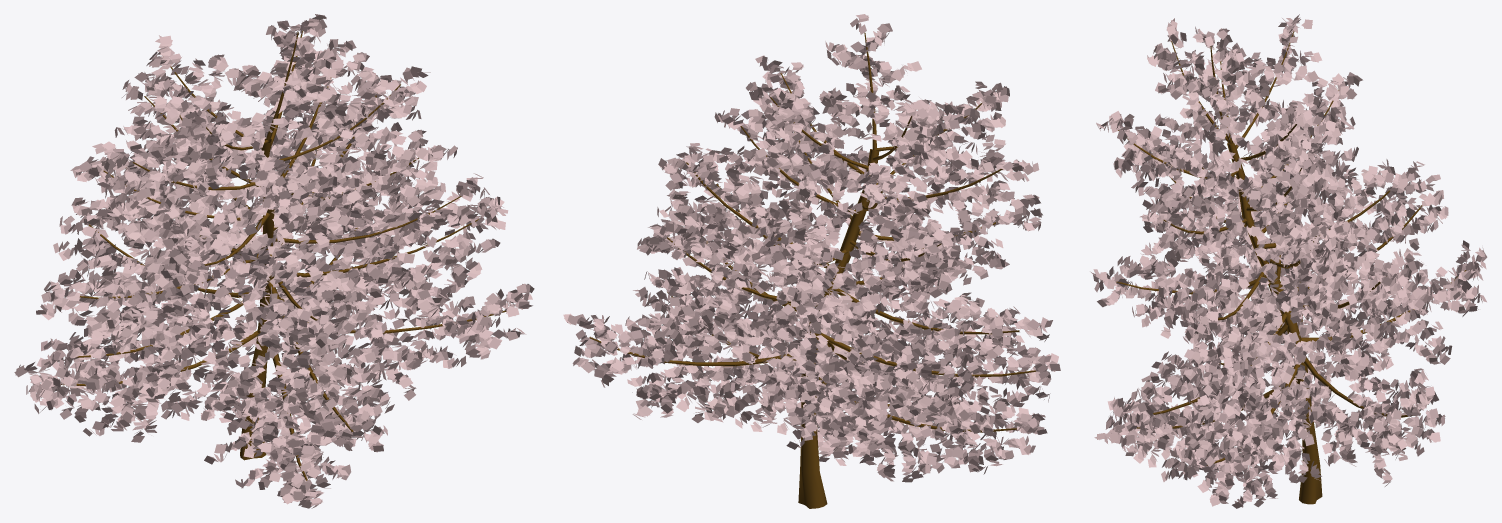
The model's file is Busch 6.FBX.
3 views of the same model, side by side, from view 1: azimuth 30°, elevation 25°; view 2: azimuth 150°, elevation 25°; view 3: azimuth 270°, elevation 25° (orthographic). The views are drawn at different scales.
Parts seen in each view (by area): view 1: Foliage006; view 2: Foliage006; view 3: Foliage006.
Part boxes in pixels (box(x1,y1,x2,y2)): Foliage006: box(14, 14, 534, 508); Foliage006: box(563, 14, 1060, 508); Foliage006: box(1090, 14, 1487, 508).
Bounding box in the file's own units: 367 × 350 × 272.
